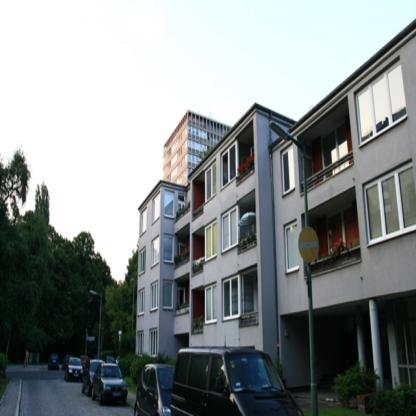Car: (133, 367, 174, 415), (90, 358, 127, 404), (82, 357, 104, 390), (63, 354, 82, 378), (48, 351, 58, 368), (80, 354, 90, 364)
